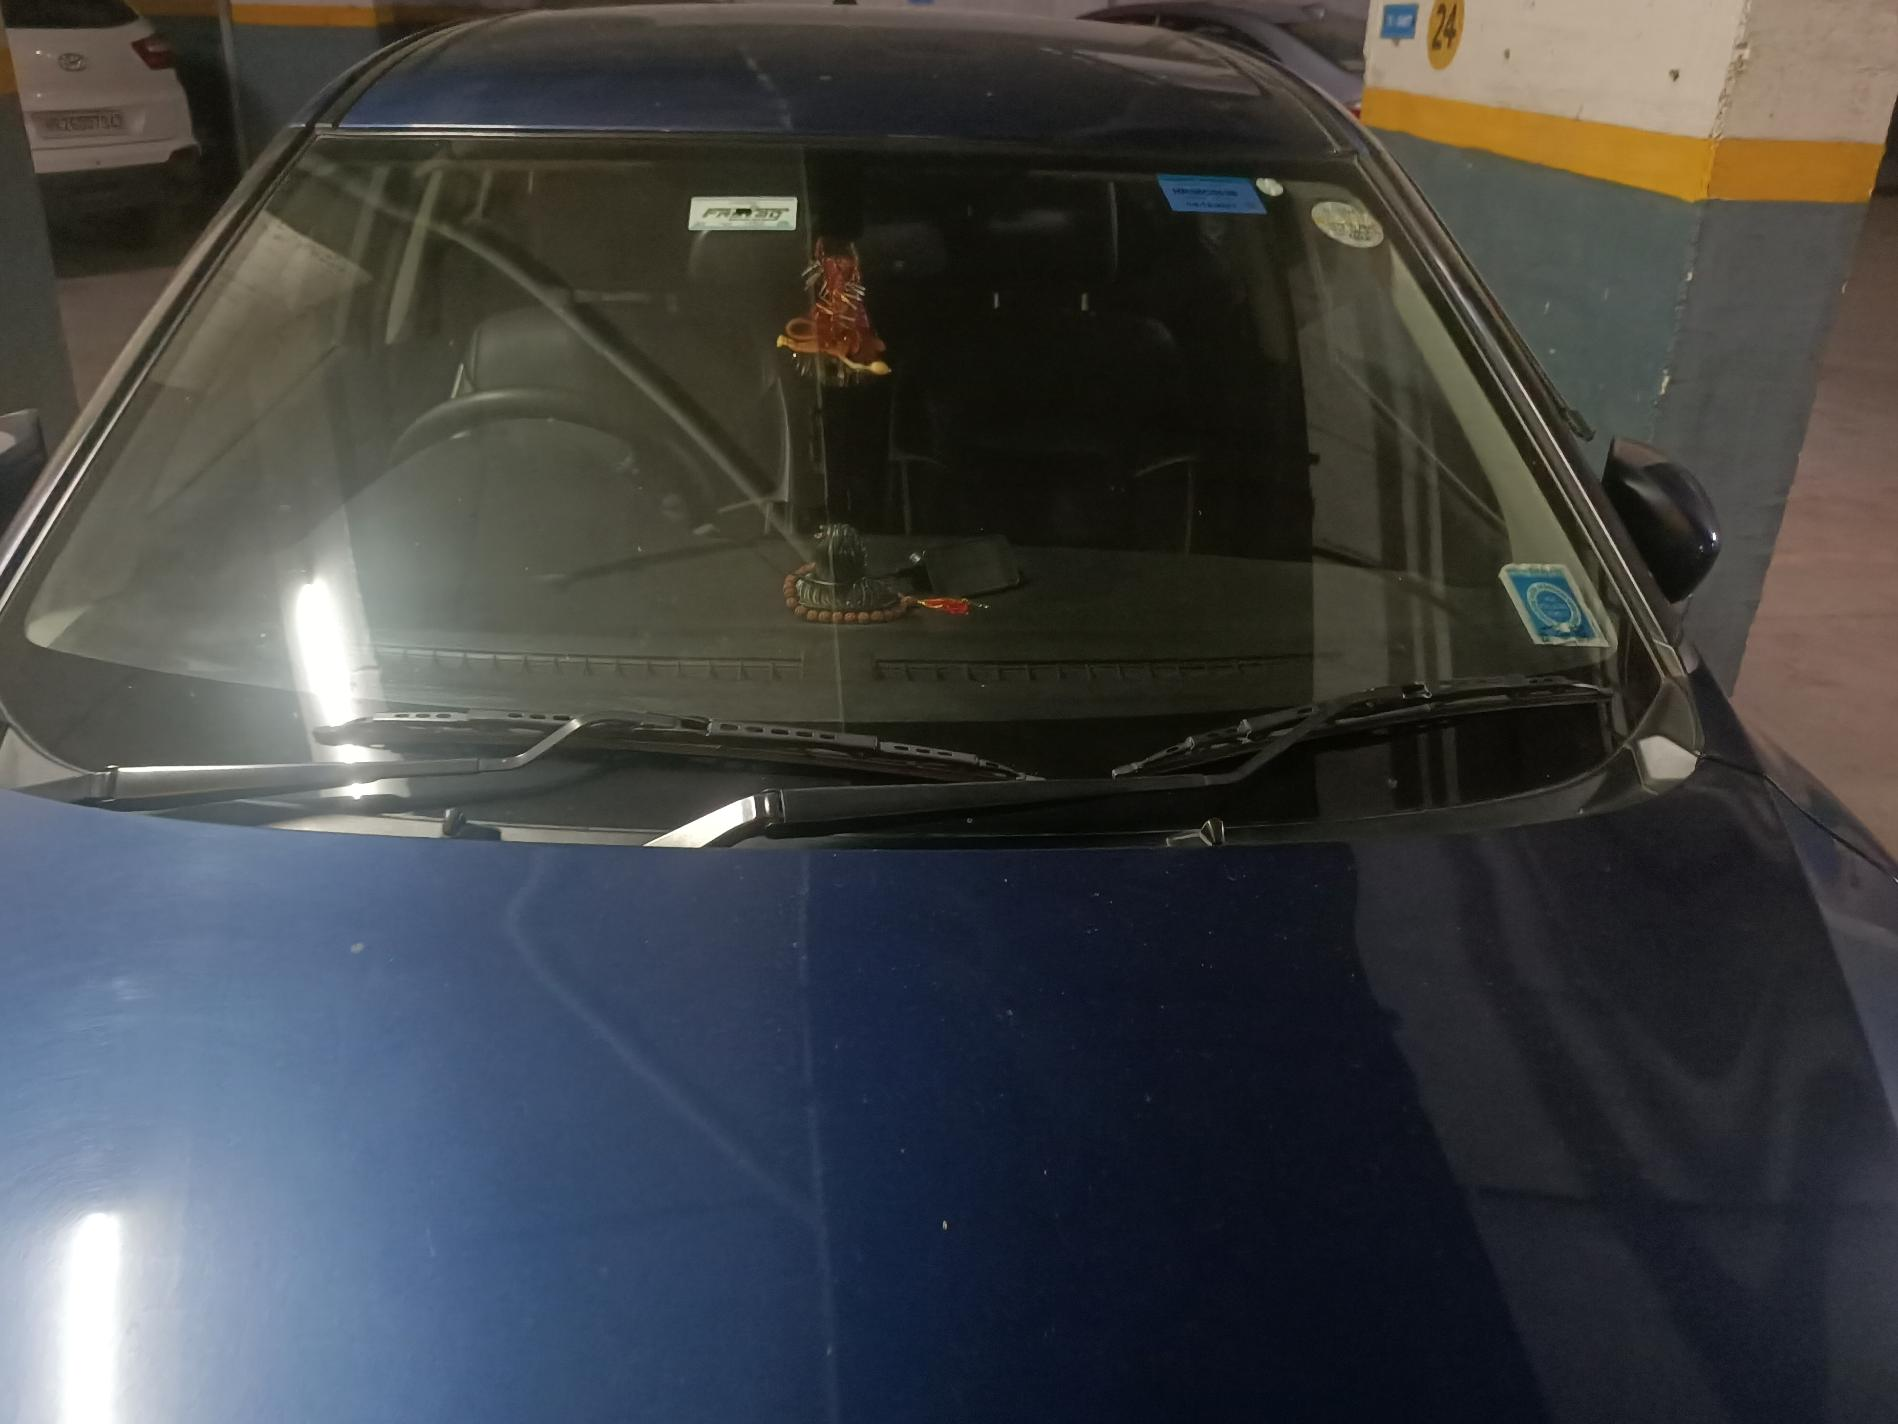FastTag: (673, 177, 806, 251)
not a FastTag: (1491, 550, 1623, 675), (1152, 172, 1280, 226), (1306, 191, 1407, 256)
